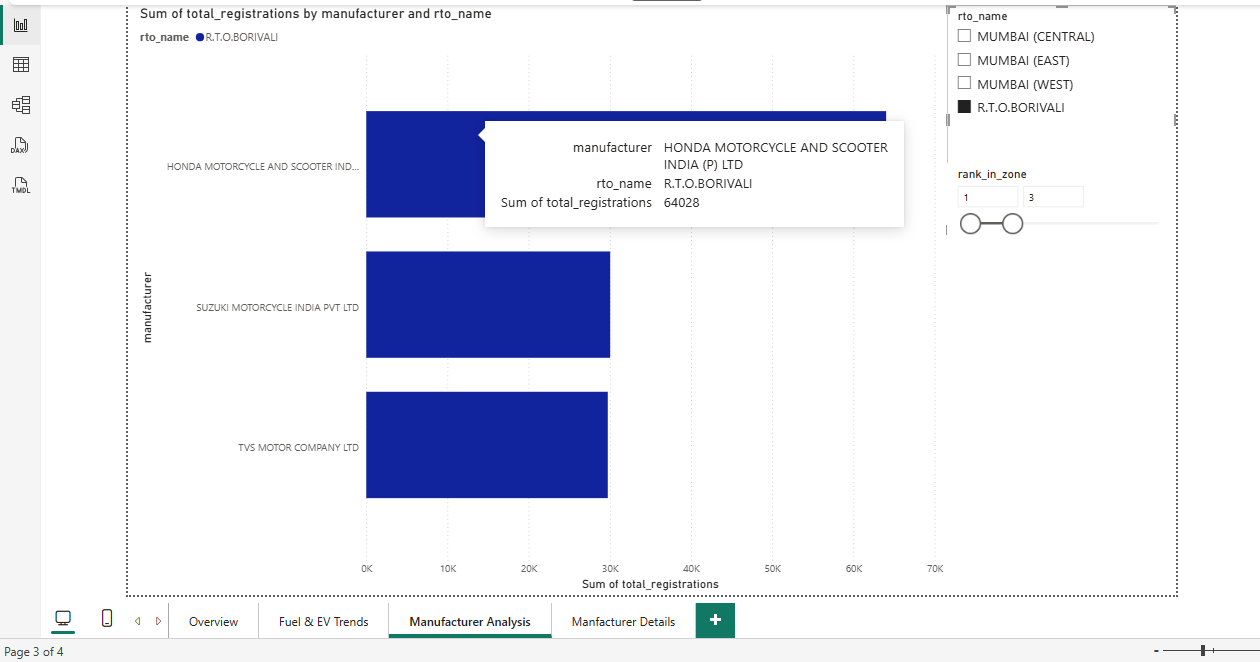

Layout of this report page (visuals, bound fields, positions):
{"tool":"powerbi","page":{"name":"Manufacturer Analysis","canvas":[1280,720],"ordinal":2},"visuals":[{"type":"clusteredBarChart","fields":{"Y":["Sum(manufacturing_registrations.total_registrations)"],"Series":["manufacturing_registrations.rto_name"],"Category":["manufacturing_registrations.manufacturer"]},"box":[9.6,0,989.6,719.8],"z":0},{"type":"slicer","fields":{"Values":["manufacturing_registrations.rto_name"]},"box":[999.2,0,280.8,279.4],"z":1000},{"type":"slicer","fields":{"Values":["manufacturing_registrations.rank_in_zone"]},"box":[999.2,192.7,280.8,150],"z":2000}]}

Visuals, with their boxes on the page's 1280x720 design canvas (x1, y1, x2, y2). These are canvas units, not pixel positions in the 1260x662 screenshot, which may show the page scaled, cropped or inside an application window:
clusteredBarChart - Sum(manufacturing_registrations.total_registrations) x manufacturing_registrations.rto_name: l=10, t=0, r=999, b=720
slicer - manufacturing_registrations.rto_name: l=999, t=0, r=1280, b=279
slicer - manufacturing_registrations.rank_in_zone: l=999, t=193, r=1280, b=343
